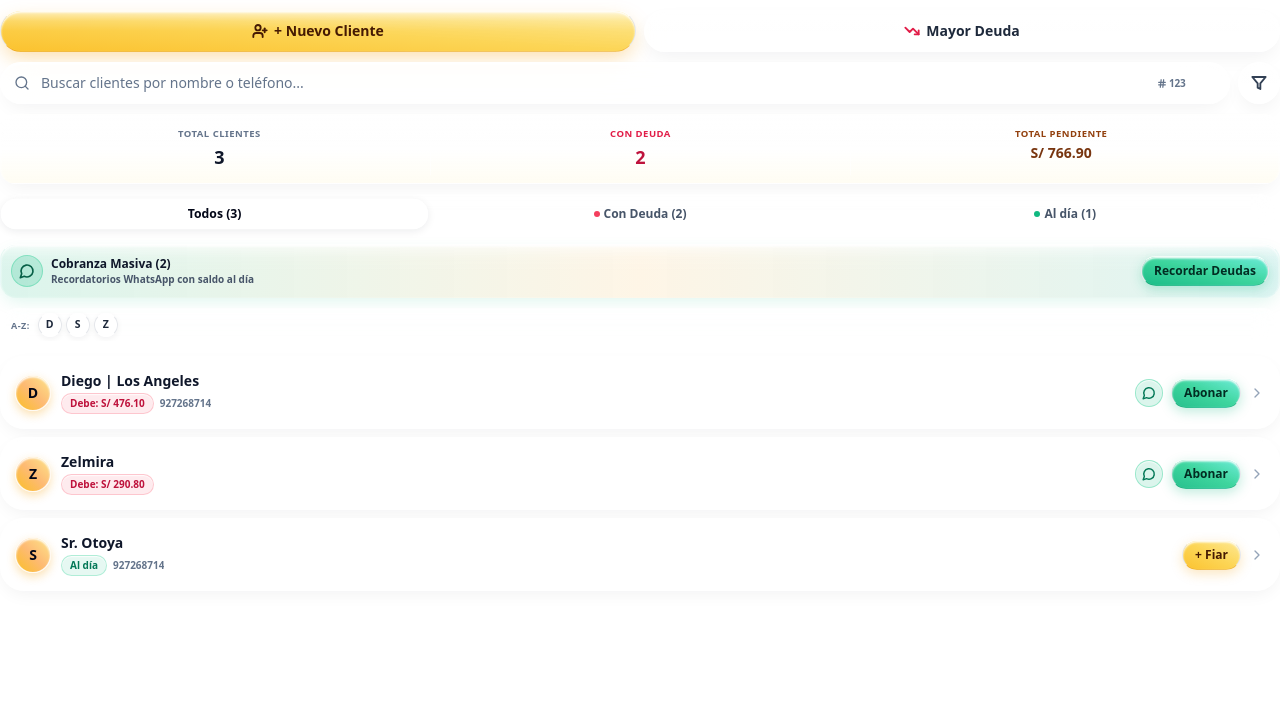
CustomersPage Component (Strict TDD) › Modal Integrations › opens QuickPaymentModal directly when clicking Abonar on a debtor card
Expected: the text "Diego | Los Angeles" is shown, [61, 371, 211, 391]
Click the button "Abonar" in the row of "Diego | Los Angeles": [1206, 393] box [1171, 378, 1241, 408]
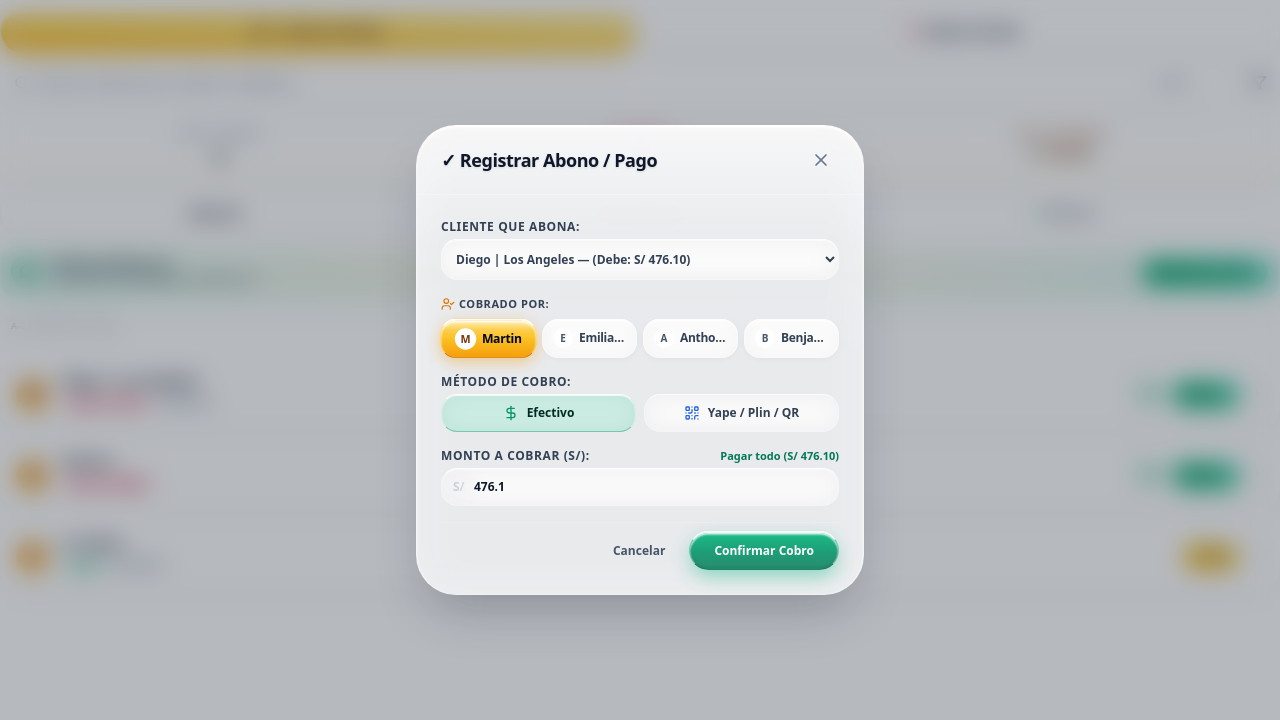
Result: the dialog is shown at [416, 125, 864, 595]
Result: the text "✓ Registrar Abono / Pago" is shown at [441, 146, 657, 174]
